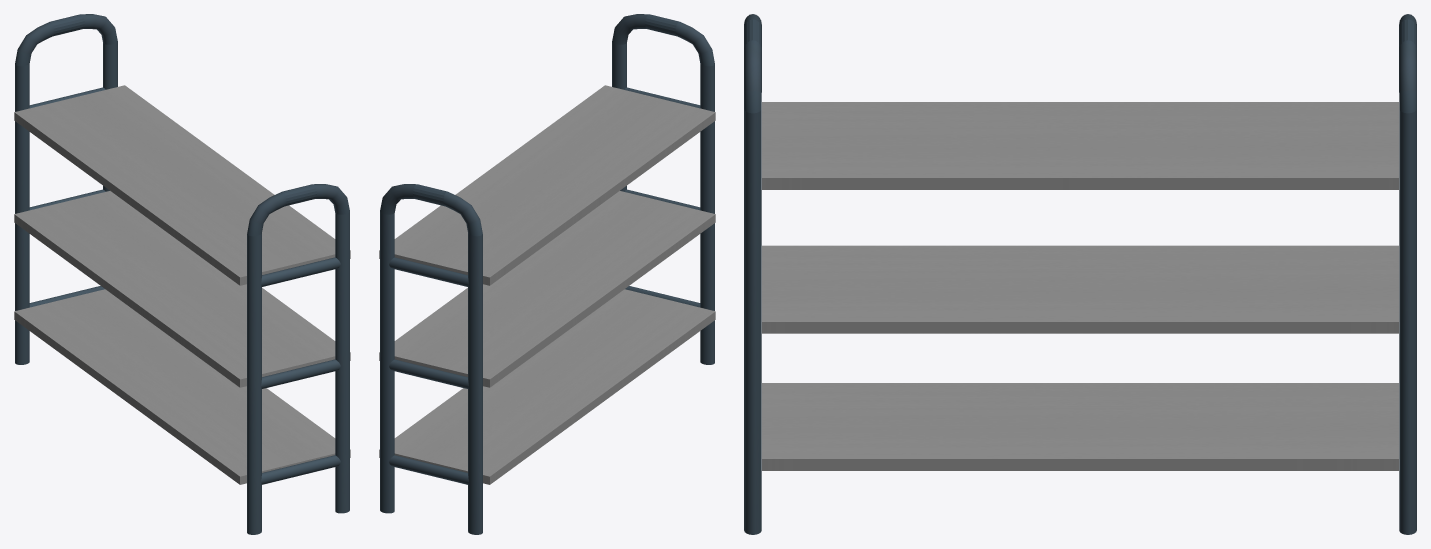
Rendered from shelf1.fbx.
The picture shows the model from 3 angles, left to right: view 1: azimuth 30°, elevation 25°; view 2: azimuth 150°, elevation 25°; view 3: azimuth 270°, elevation 25°; orthographic projection. The views are drawn at different scales.
Parts seen in each view (by area): view 1: polySurface6, polySurface5, polySurface11, polySurface7, polySurface1; view 2: polySurface6, polySurface5, polySurface11, polySurface1, polySurface7; view 3: polySurface5, polySurface6, polySurface11, polySurface1, polySurface7.
Part boxes in pixels (x1,y1,x2,y2): polySurface6: (14, 85, 350, 285); polySurface5: (14, 191, 350, 387); polySurface11: (14, 289, 350, 484); polySurface7: (247, 184, 349, 534); polySurface1: (15, 14, 117, 364); polySurface6: (379, 85, 715, 285); polySurface5: (379, 191, 715, 387); polySurface11: (379, 289, 715, 484); polySurface1: (380, 184, 482, 534); polySurface7: (612, 14, 714, 364); polySurface5: (762, 245, 1398, 333); polySurface6: (762, 102, 1398, 189); polySurface11: (762, 383, 1398, 470); polySurface1: (1399, 14, 1416, 534); polySurface7: (744, 14, 761, 534).
Bounding box in the file's own units: 0.8234 × 2.37 × 3.07.
